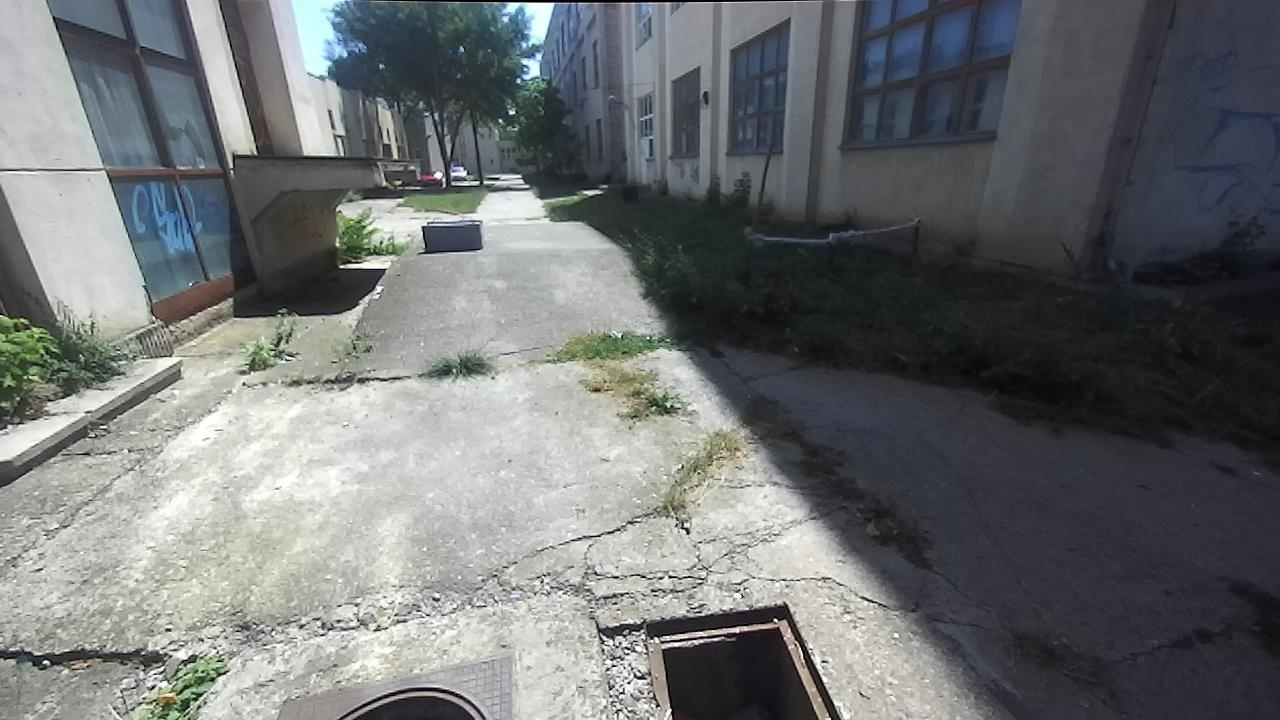drain: (640, 599, 846, 718), (326, 682, 506, 719)
